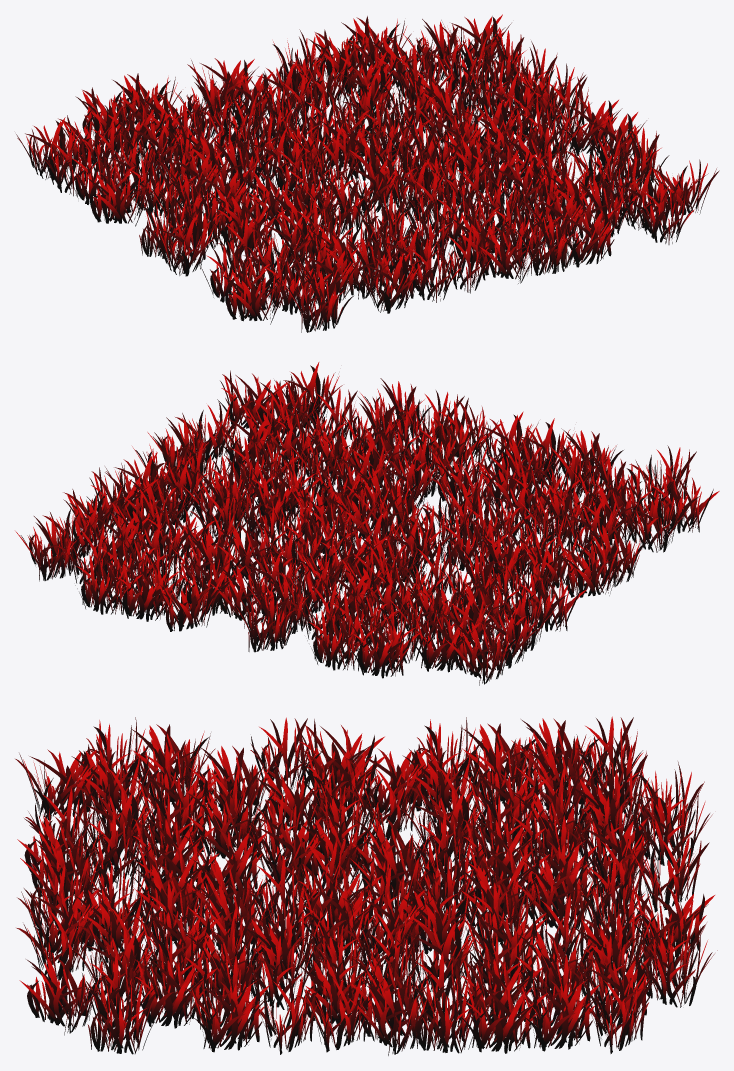
File: SM_grassL_LOD0.FBX
3 views of the same model, one above another, from view 1: azimuth 30°, elevation 25°; view 2: azimuth 150°, elevation 25°; view 3: azimuth 270°, elevation 25° (orthographic). The views are drawn at different scales.
Visible parts, largest first — view 1: SM_grassL_LOD0; view 2: SM_grassL_LOD0; view 3: SM_grassL_LOD0.
Part boxes in pixels (left/top/right/bottom): SM_grassL_LOD0: left=16, top=14, right=719, bottom=332; SM_grassL_LOD0: left=15, top=362, right=719, bottom=685; SM_grassL_LOD0: left=15, top=716, right=717, bottom=1055.
Size of the model in its own units: 1171 by 106 by 1166.
